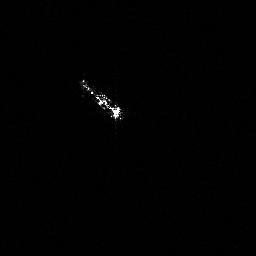ship: (75, 75, 128, 123)
